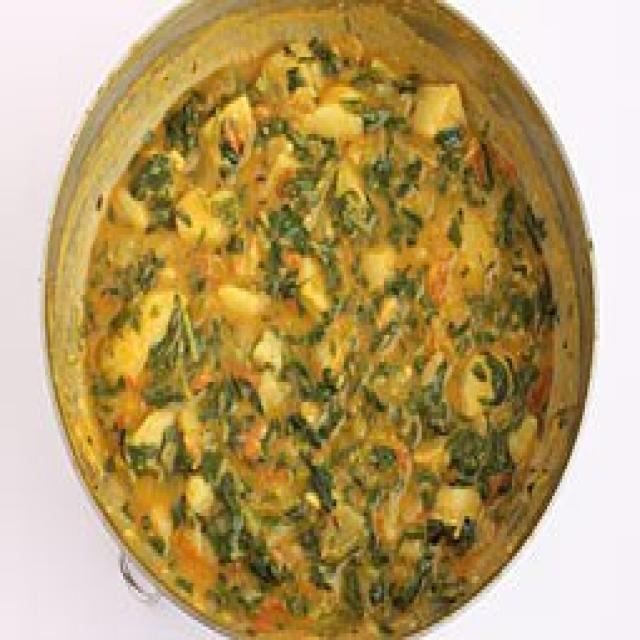Aloo Methi: (43, 0, 593, 640)
